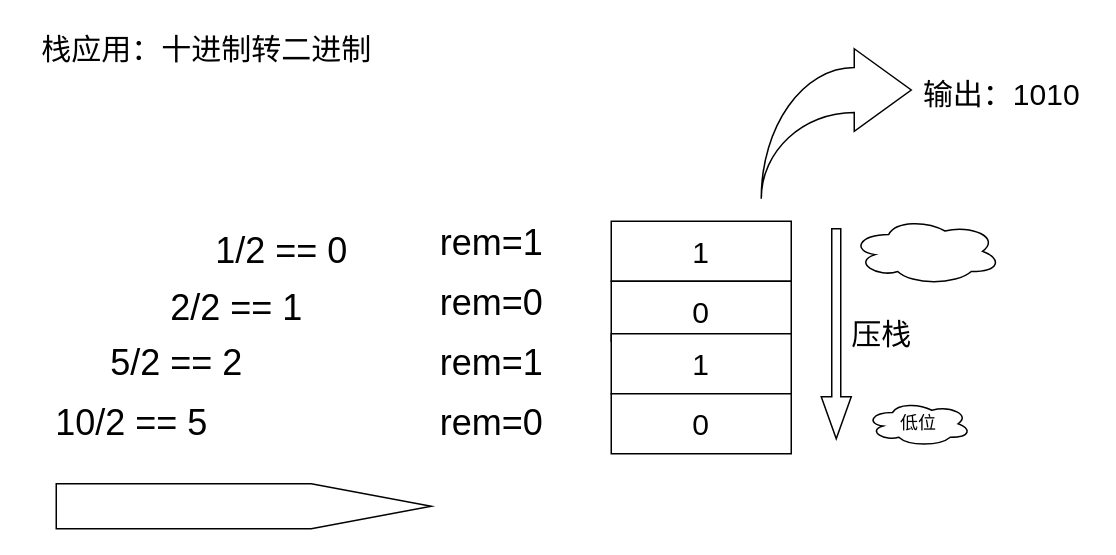
Some shapes in this 1116 by 555 pixel diagram are drawn without their labels. Here are the shapes that lost their labels. From the top down, the centre of each, then its label:
(x=925, y=250): 高位
(x=243, y=505): 计算过程
